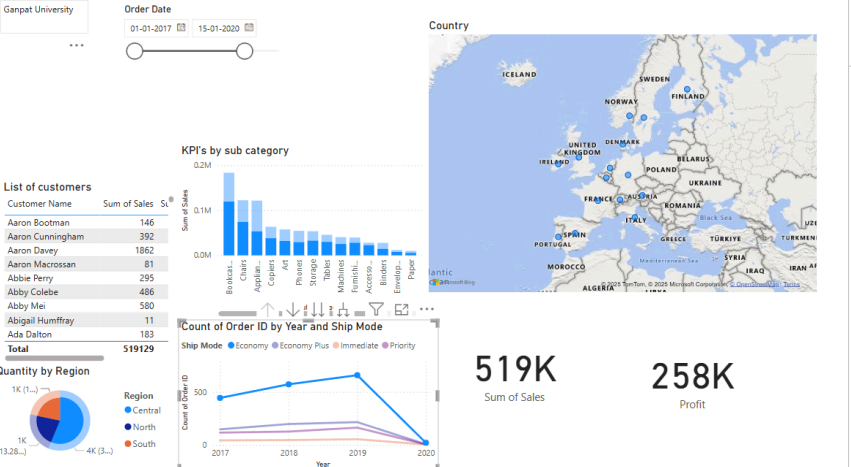

What the dashboard file says about the page in this screenshot:
{"tool":"powerbi","page":{"name":"Page 1","canvas":[1280,720],"ordinal":0},"visuals":[{"type":"card","fields":{"Values":["Sum(List of Orders.Profit)"]},"box":[913.7,439.5,266,281.4],"z":0},{"type":"card","fields":{"Values":["Sum(List of Orders.Sales)"]},"box":[647.7,428,266,281.4],"z":1000},{"type":"tableEx","title":"List of customers","fields":{"Values":["List of Orders.Customer Name","Sum(List of Orders.Sales)","Sum(List of Orders.Cost)","Sum(List of Orders.Profit)"]},"box":[11,281.3,265.4,277.6],"z":2000},{"type":"clusteredColumnChart","title":"KPI''s by sub category","fields":{"Category":["List of Orders.Sub-Category"],"Y":["Sum(List of Orders.Sales)"]},"box":[277.6,226.2,370.5,265.4],"z":3000},{"type":"pieChart","title":"Quantity by Region","fields":{"Y":["Sum(List of Orders.Quantity)"],"Category":["List of Orders.Region"]},"box":[0,559,266,150.4],"z":4000},{"type":"lineChart","fields":{"Category":["List of Orders.Order Date.Variation.Date Hierarchy.Year","List of Orders.Order Date.Variation.Date Hierarchy.Quarter","List of Orders.Order Date.Variation.Date Hierarchy.Month","List of Orders.Order Date.Variation.Date Hierarchy.Day"],"Y":["CountNonNull(List of Orders.Order ID)"],"Series":["List of Orders.Ship Mode"]},"box":[277.6,491.6,388.9,228.7],"z":5000},{"type":"map","fields":{"Category":["List of Orders.Country"]},"box":[647.7,38.6,589.9,416.4],"z":6000},{"type":"slicer","fields":{"Values":["List of Orders.Order Date"]},"box":[183.9,11,266.2,197.6],"z":7000},{"type":"textbox","box":[11.6,11.6,131.1,50.1],"z":8000}]}

Visuals, with their boxes in screenshot pixels (x1, y1, x2, y2), scaled from the page's 1280x720 canvas onto the 851x467 screenshot:
card - Sum(List of Orders.Profit): <box>607,285,784,466</box>
card - Sum(List of Orders.Sales): <box>431,278,607,460</box>
"List of customers" tableEx: <box>7,182,184,363</box>
"KPI''s by sub category" clusteredColumnChart: <box>185,147,431,319</box>
"Quantity by Region" pieChart: <box>0,363,177,460</box>
lineChart - List of Orders.Order Date.Variation.Date Hierarchy.Year x List of Orders.Order Date.Variation.Date Hierarchy.Quarter: <box>185,319,443,466</box>
map - List of Orders.Country: <box>431,25,823,295</box>
slicer - List of Orders.Order Date: <box>122,7,299,135</box>
textbox: <box>8,8,95,40</box>
